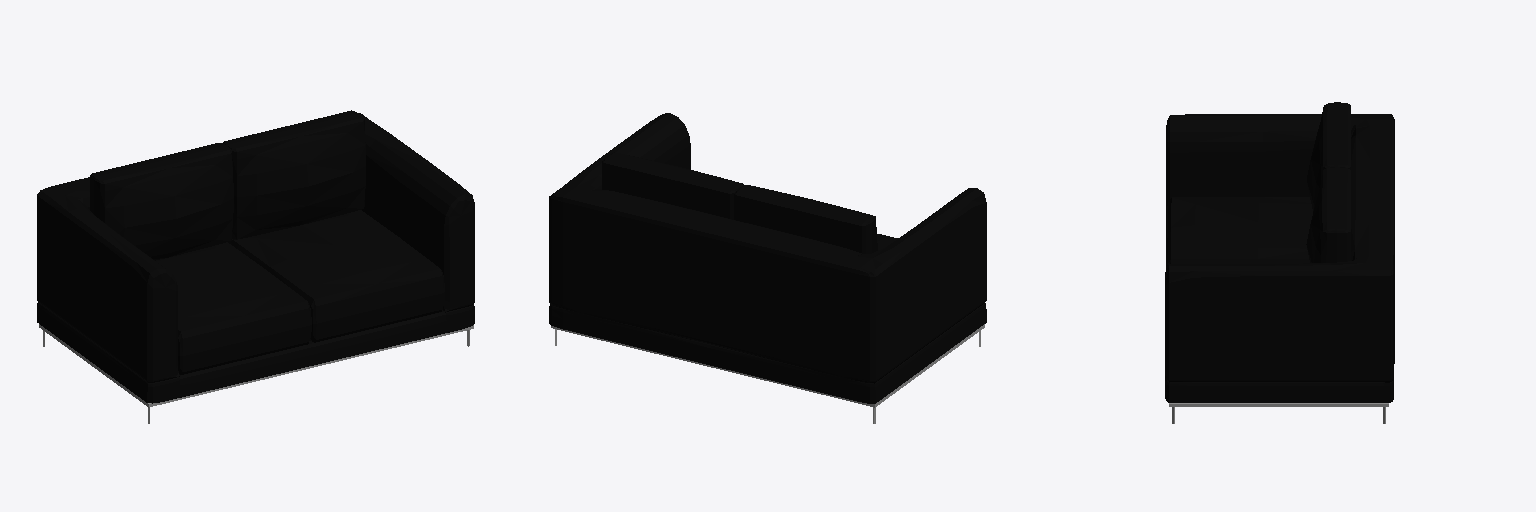
Rendered from sofa.obj.
3 renders of one model, left to right at view 1: azimuth 30°, elevation 25°; view 2: azimuth 150°, elevation 25°; view 3: azimuth 270°, elevation 25°, orthographic.
Visible parts, largest first — view 1: Box01, Box03, Box04, Box02, Box05, Loft04; view 2: Box01, Box05, Box04, Loft04; view 3: Box01, Box02, Box04, Box05, Loft04.
Part boxes in pixels (left/top/right/bottom): Box01: left=37, top=113, right=474, bottom=403; Box03: left=228, top=210, right=444, bottom=342; Box04: left=223, top=110, right=365, bottom=239; Box02: left=156, top=242, right=311, bottom=374; Box05: left=90, top=143, right=233, bottom=260; Loft04: left=39, top=324, right=473, bottom=423; Box01: left=549, top=113, right=986, bottom=403; Box05: left=734, top=185, right=877, bottom=253; Box04: left=602, top=152, right=743, bottom=219; Loft04: left=551, top=324, right=984, bottom=423; Box01: left=1165, top=114, right=1394, bottom=402; Box02: left=1166, top=197, right=1312, bottom=267; Box04: left=1306, top=167, right=1350, bottom=262; Box05: left=1307, top=102, right=1350, bottom=210; Loft04: left=1169, top=403, right=1388, bottom=423.
Bounding box in the file's own units: 155 × 81.41 × 94.36.